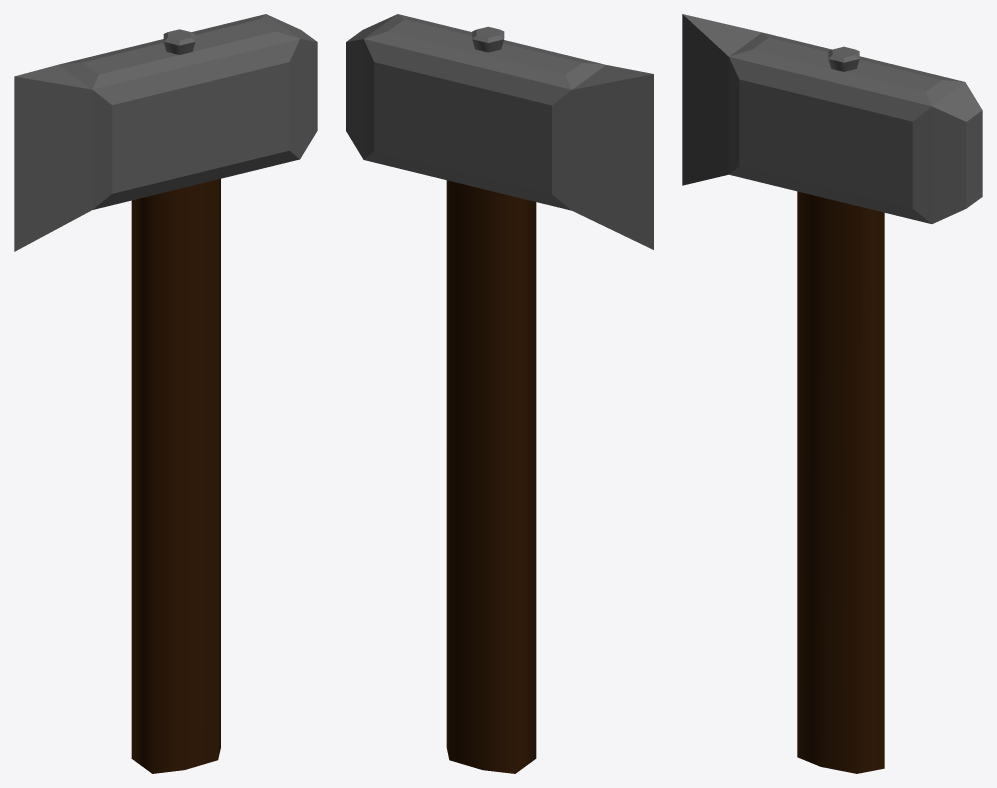
Rendered from axebroken.FBX.
3 views of the same model, side by side, from view 1: azimuth 30°, elevation 25°; view 2: azimuth 150°, elevation 25°; view 3: azimuth 330°, elevation 25° (orthographic). The views are drawn at different scales.
Parts seen in each view (by area): view 1: Cylinder001, Box001, Cylinder002; view 2: Cylinder001, Box001, Cylinder002; view 3: Cylinder001, Box001, Cylinder002.
Boxes of the visible parts, box(x1,y1,x2,y2) form: Cylinder001: box(131, 179, 220, 773); Box001: box(14, 14, 317, 251); Cylinder002: box(163, 29, 195, 54); Cylinder001: box(446, 180, 536, 773); Box001: box(346, 14, 653, 249); Cylinder002: box(472, 26, 504, 52); Cylinder001: box(797, 191, 884, 773); Box001: box(682, 14, 982, 223); Cylinder002: box(828, 46, 859, 71).
Size of the model in its own units: 50.01 by 116 by 12.65.
